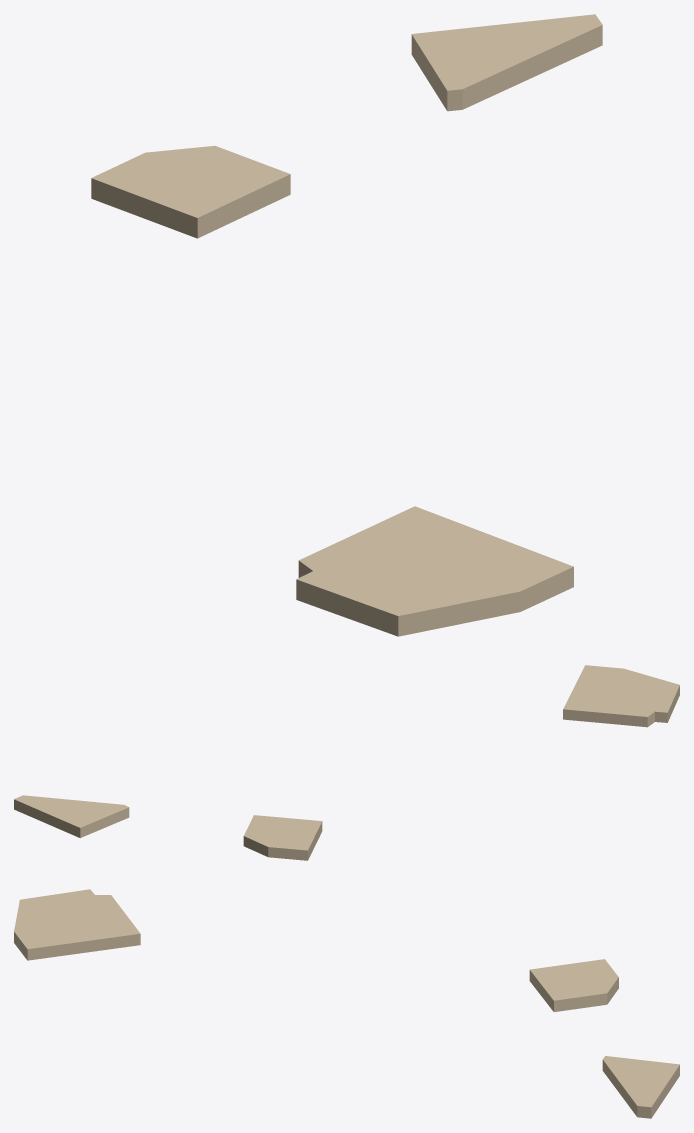
Rendered from -16_-5-estimated-coarse.glb.
3 views of the same model, one above another, from view 1: azimuth 30°, elevation 25°; view 2: azimuth 150°, elevation 25°; view 3: azimuth 270°, elevation 25° (orthographic). The views are drawn at different scales.
Bounding box in the file's own units: 491 × 12 × 634.
